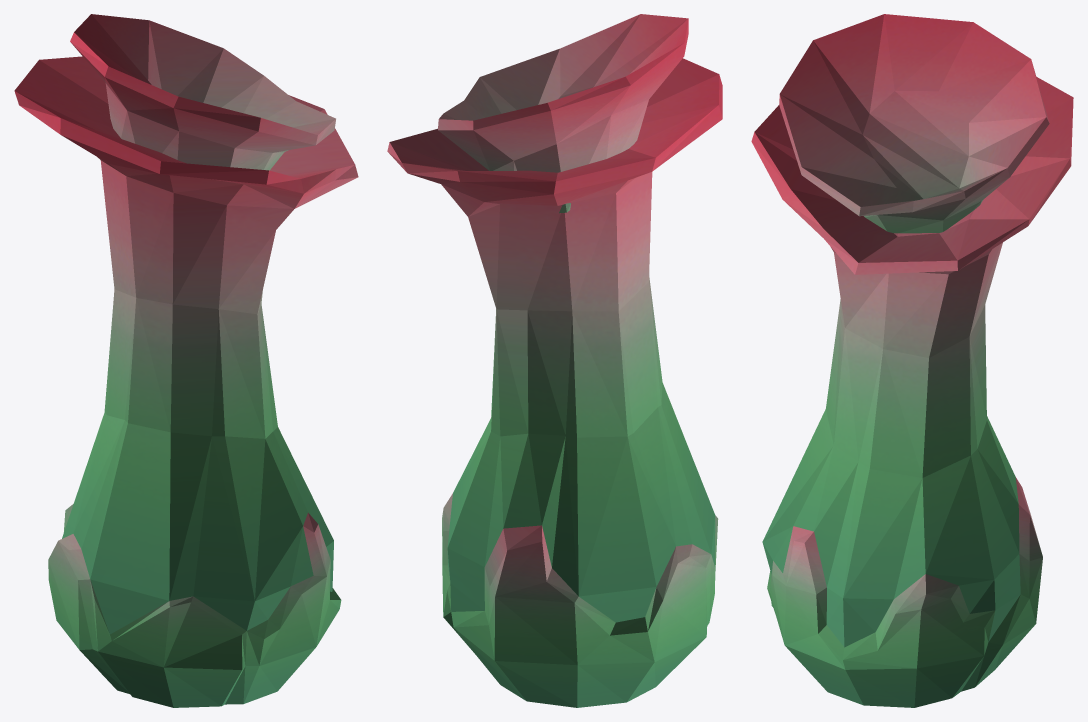
Rendered from yd_20stone2.obj.
3 renders of one model, left to right at view 1: azimuth 30°, elevation 25°; view 2: azimuth 150°, elevation 25°; view 3: azimuth 270°, elevation 25°, orthographic. The views are drawn at different scales.
Parts seen in each view (by area): view 1: giant_flower_lush; view 2: giant_flower_lush; view 3: giant_flower_lush.
Part boxes in pixels (<box>): giant_flower_lush: <box>14,14,358,707</box>; giant_flower_lush: <box>387,14,722,707</box>; giant_flower_lush: <box>751,14,1073,707</box>.
Size of the model in its own units: 21759 by 44329 by 21120.
